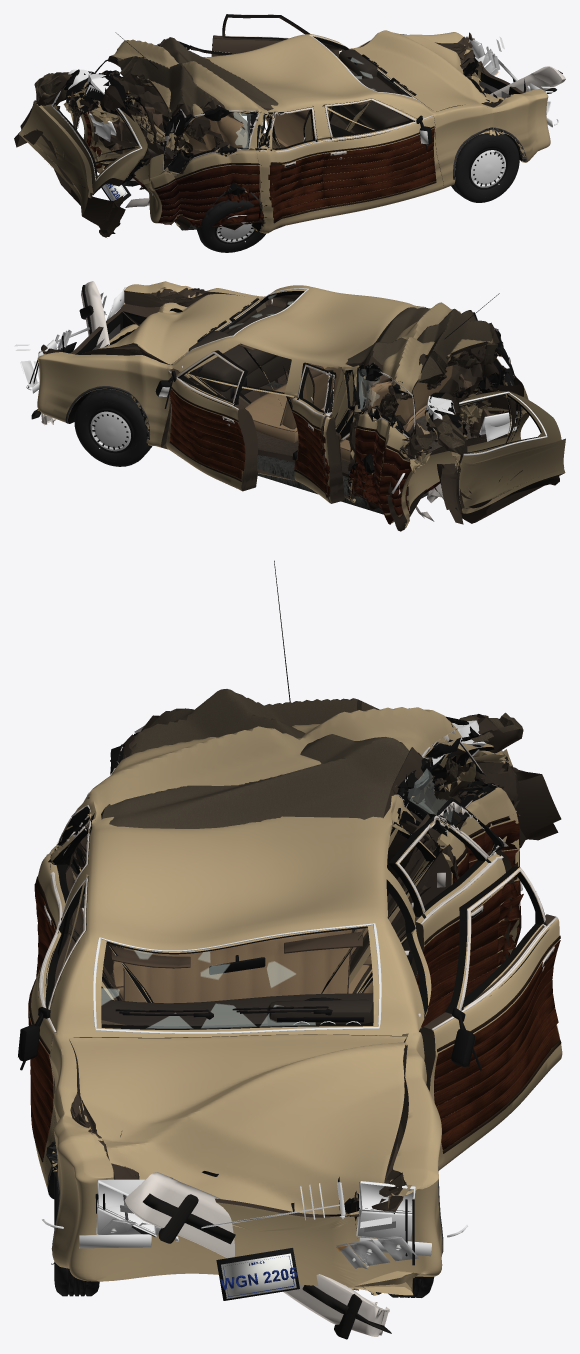
Rendered from wagon82_rear_d3_lod1.glb.
The picture shows the model from 3 angles, top to bottom: view 1: azimuth 30°, elevation 25°; view 2: azimuth 150°, elevation 25°; view 3: azimuth 270°, elevation 25°; orthographic projection. The views are drawn at different scales.
Visible parts, largest first — view 1: Body, Tailgate, Trim_FR, Trim, Hood, Interior, Wheel_FR_mesh, Trim_RR, Door_FR, Door_RR, Wheel_RR_mesh, Ends (+4 smaller); view 2: Body, Tailgate, Interior, Hood, Trim_FL, Trim, Wheel_FL_mesh, Door_FL, Door_RL, Trim_RL, Ends, Glass (+3 smaller); view 3: Body, Hood, Interior, Trim_FL, Ends, Bumper_F, Door_FL, Trim_RL, Glass, Tailgate, Door_RL, Trim (+5 smaller).
Part boxes in pixels (x1=…): Body: x1=81, y1=32, x2=550, y2=233; Tailgate: x1=14, y1=69, x2=150, y2=237; Trim_FR: x1=322, y1=98, x2=436, y2=208; Trim: x1=83, y1=32, x2=526, y2=230; Hood: x1=353, y1=30, x2=503, y2=111; Interior: x1=109, y1=49, x2=409, y2=158; Wheel_FR_mesh: x1=451, y1=134, x2=519, y2=202; Trim_RR: x1=258, y1=107, x2=328, y2=223; Door_FR: x1=323, y1=98, x2=443, y2=216; Door_RR: x1=256, y1=107, x2=327, y2=232; Wheel_RR_mesh: x1=196, y1=193, x2=265, y2=252; Ends: x1=89, y1=36, x2=558, y2=201; Body: x1=37, y1=281, x2=529, y2=531; Tailgate: x1=424, y1=390, x2=565, y2=524; Interior: x1=187, y1=304, x2=491, y2=461; Hood: x1=80, y1=294, x2=261, y2=364; Trim_FL: x1=155, y1=351, x2=245, y2=481; Trim: x1=65, y1=293, x2=514, y2=530; Wheel_FL_mesh: x1=74, y1=389, x2=152, y2=466; Door_FL: x1=166, y1=350, x2=257, y2=491; Door_RL: x1=292, y1=364, x2=344, y2=503; Trim_RL: x1=292, y1=365, x2=341, y2=497; Ends: x1=14, y1=287, x2=517, y2=494; Glass: x1=182, y1=288, x2=514, y2=437; Body: x1=43, y1=689, x2=521, y2=1295; Hood: x1=69, y1=1034, x2=407, y2=1214; Interior: x1=101, y1=927, x2=373, y2=1026; Trim_FL: x1=418, y1=868, x2=561, y2=1153; Ends: x1=42, y1=881, x2=522, y2=1300; Bumper_F: x1=124, y1=1172, x2=391, y2=1339; Door_FL: x1=419, y1=866, x2=562, y2=1170; Trim_RL: x1=396, y1=801, x2=523, y2=1027; Glass: x1=87, y1=723, x2=495, y2=1033; Tailgate: x1=387, y1=712, x2=561, y2=896; Door_RL: x1=388, y1=813, x2=514, y2=1028; Trim: x1=46, y1=560, x2=520, y2=1254.
Size of the model in its own units: 4.58 by 1.99 by 2.33.
34 materials, 6 textured.
